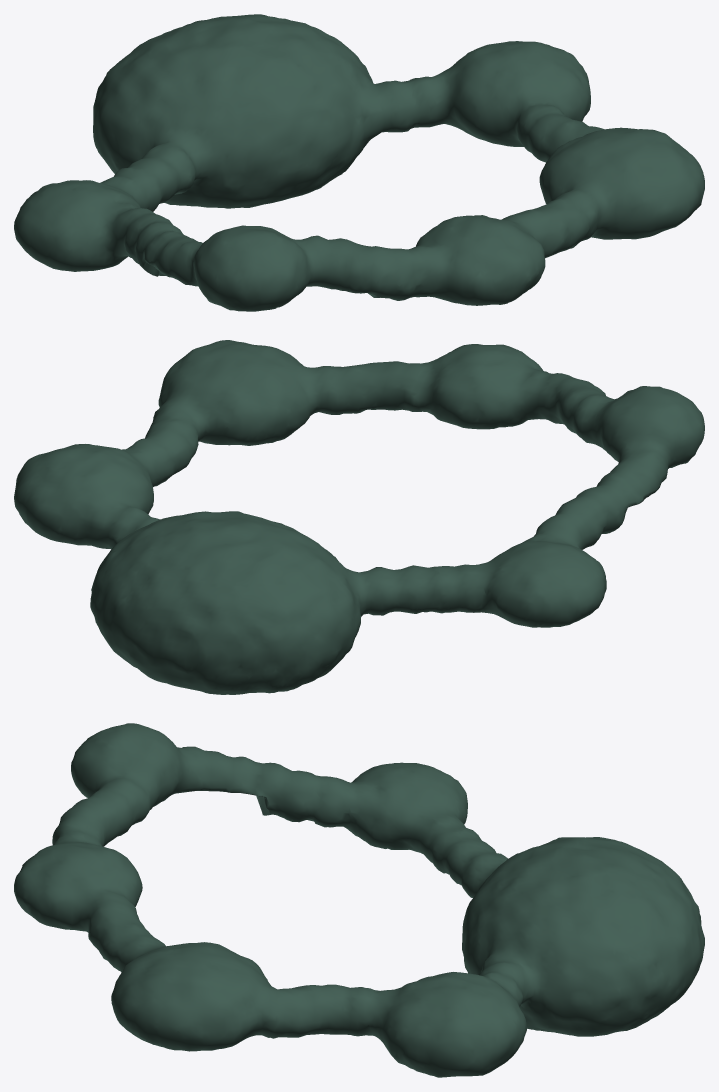
The model's file is cave_f7.glb.
3 views of the same model, one above another, from view 1: azimuth 30°, elevation 25°; view 2: azimuth 150°, elevation 25°; view 3: azimuth 270°, elevation 25° (orthographic). The views are drawn at different scales.
Parts seen in each view (by area): view 1: cave_f7; view 2: cave_f7; view 3: cave_f7.
Part boxes in pixels (x1=…): cave_f7: x1=14, y1=14, x2=704, y2=311; cave_f7: x1=14, y1=340, x2=704, y2=694; cave_f7: x1=14, y1=723, x2=704, y2=1077.
Size of the model in its own units: 81.03 by 21.4 by 84.94.
